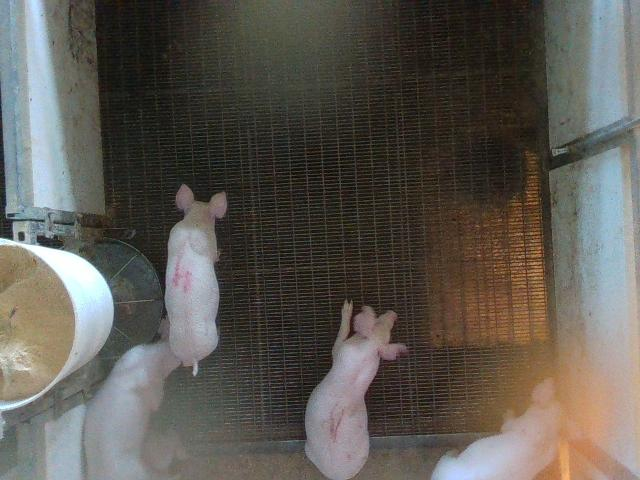pig-1: (305, 301, 406, 478)
pig-4: (165, 185, 228, 374)
